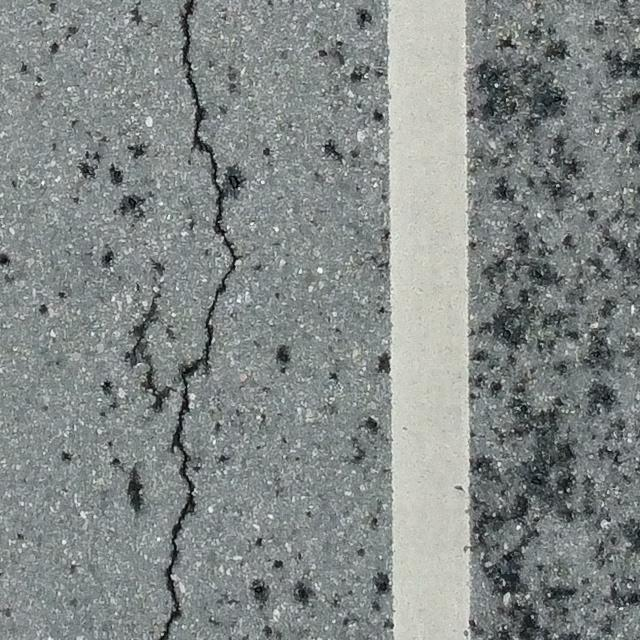LongitudinalCrack: (150, 1, 242, 640)
